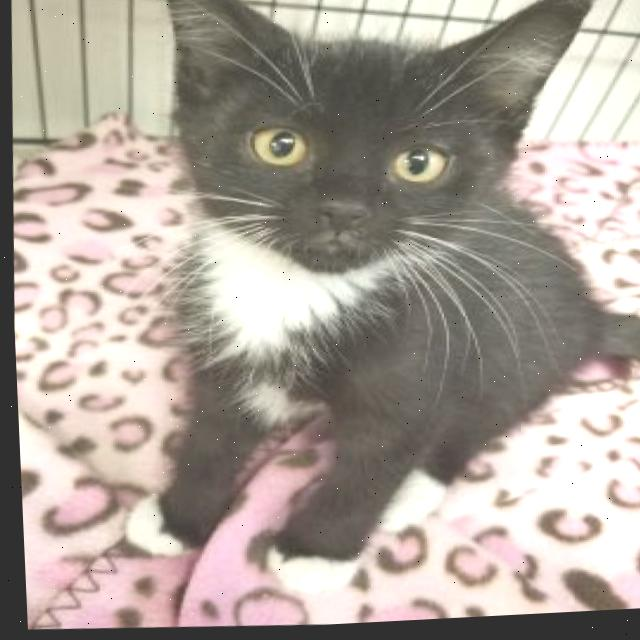Tuxedo: (87, 0, 640, 620)
